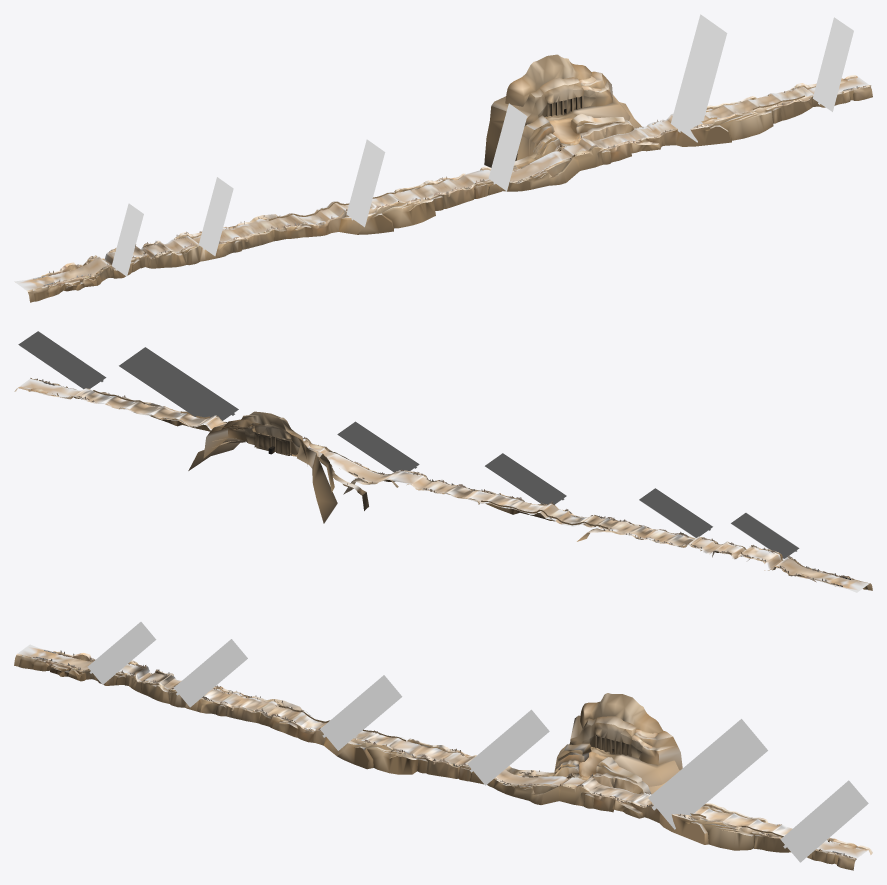
File: Desert_02.fbx
The picture shows the model from 3 angles, top to bottom: view 1: azimuth 30°, elevation 25°; view 2: azimuth 150°, elevation 25°; view 3: azimuth 330°, elevation 25°; orthographic projection.
Visible parts, largest first — view 1: Mountain_01, Light_01, Ground_01, Tree_01, Ground_02; view 2: Light_01, Ground_01, Mountain_01, Tree_01, Pattern_01; view 3: Mountain_01, Light_01, Ground_01, Tree_01, Ground_02, Pattern_01.
Part boxes in pixels (x1,y1,x2,y2): Mountain_01: (27, 54, 872, 302); Light_01: (111, 14, 853, 276); Ground_01: (14, 76, 868, 290); Tree_01: (42, 85, 871, 286); Ground_02: (136, 76, 847, 259); Light_01: (18, 331, 799, 558); Ground_01: (18, 378, 869, 592); Mountain_01: (14, 378, 872, 590); Tree_01: (30, 378, 854, 581); Pattern_01: (52, 386, 753, 558); Mountain_01: (14, 651, 872, 870); Light_01: (87, 622, 868, 862); Ground_01: (18, 644, 868, 858); Tree_01: (33, 650, 856, 859); Ground_02: (123, 673, 856, 848); Pattern_01: (133, 665, 834, 850).
Size of the model in its own units: 66090 by 8708 by 8011.
